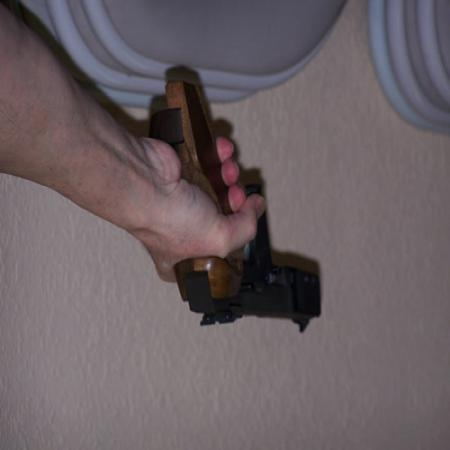Pistol: (151, 82, 322, 336)
